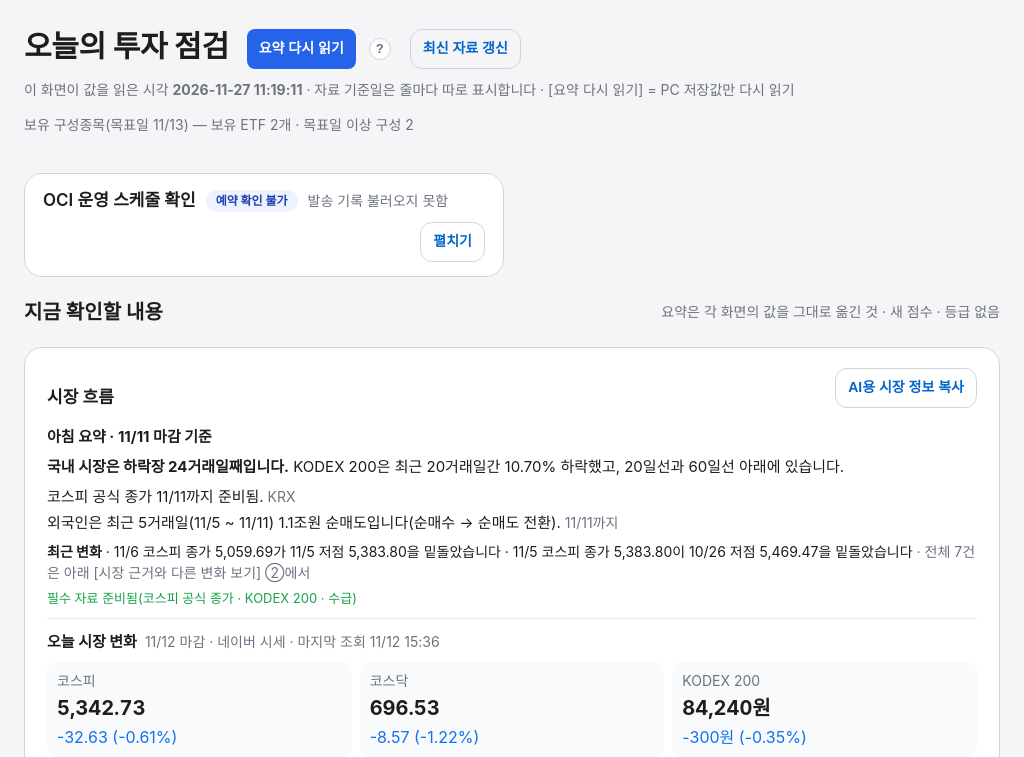
Test: [AI용 시장 정보 복사](설계 §6 · 판정 §4 · POC6-32 V2 PLAN §4-1) › I-23 — 공통 근거를 못 읽으면(요청 실패) 복사하지 않고 알린다 · 대신할 글 · 글 상자 없음
What coordinates should you click on to do the following:
click the button "AI용 시장 정보 복사"
I would click on:
 (906, 388)
Its box is [835, 368, 977, 408].
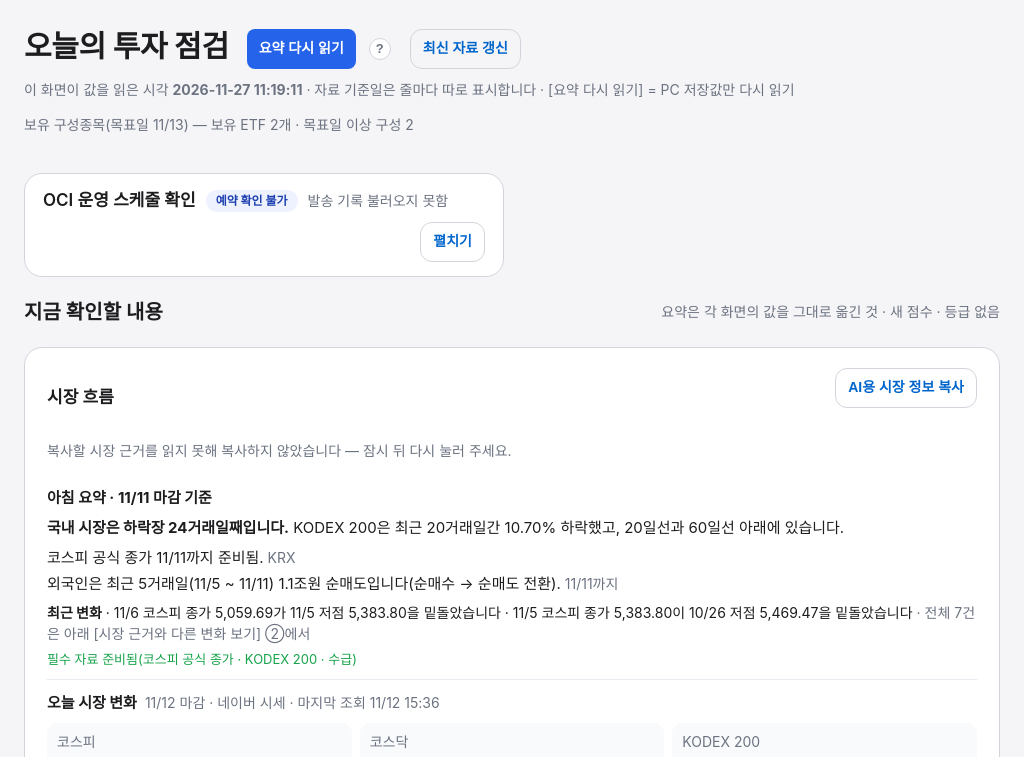
Now the text with test id "tc-copy-message" reads "복사할 시장 근거를 읽지 못해 복사하지 않았습니다 — 잠시 뒤 다시 눌러 주세요.", box [47, 442, 512, 459]
